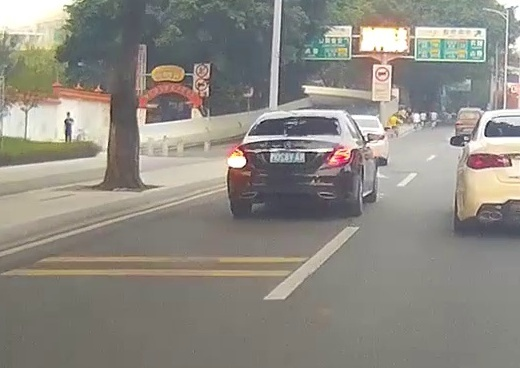L_light: (227, 148, 248, 169)
R_light: (327, 144, 351, 167)
T_light: (289, 117, 306, 120)
day-left: (226, 109, 356, 217)
